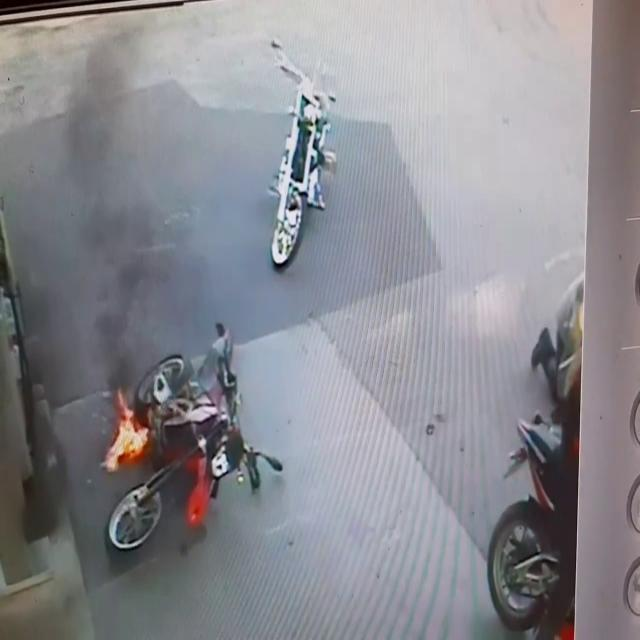Fire: (100, 394, 150, 472)
Smoke: (0, 8, 214, 378)
